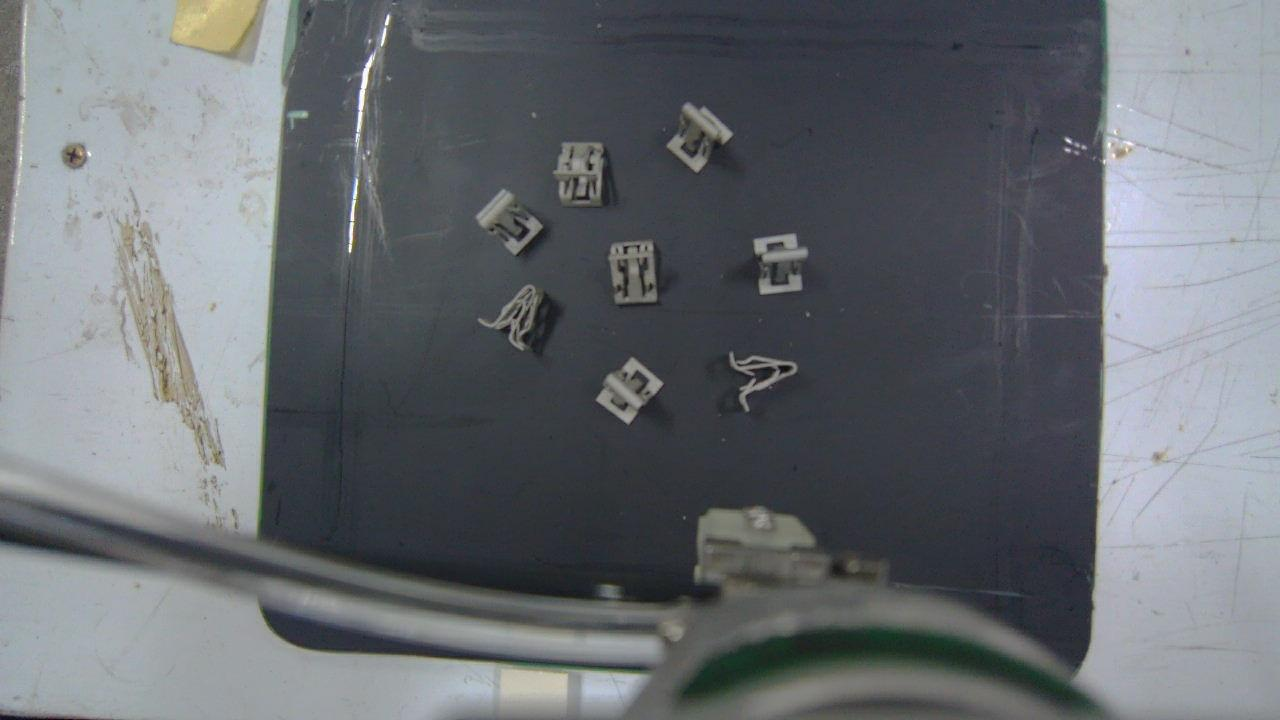ng: (663, 102, 734, 172), (476, 187, 544, 257), (477, 284, 545, 351), (730, 353, 796, 413), (554, 142, 604, 207), (609, 241, 657, 304)
pass: (595, 355, 664, 425), (754, 234, 807, 294)
